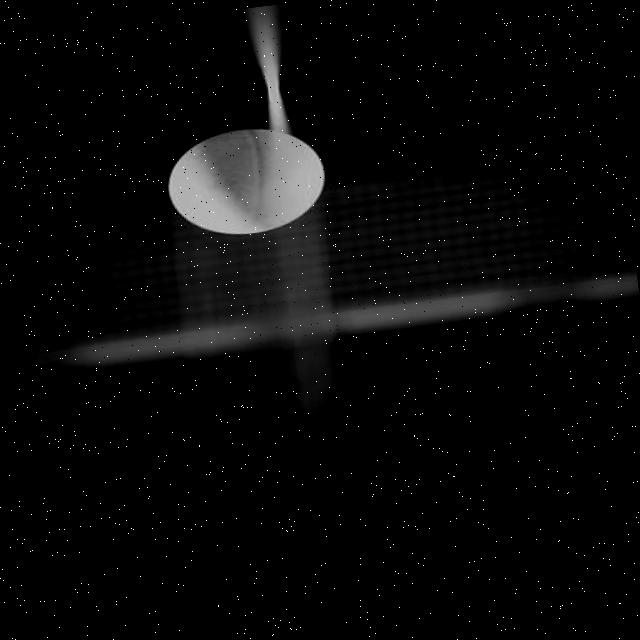ping-pong-ball: (158, 119, 330, 244)
